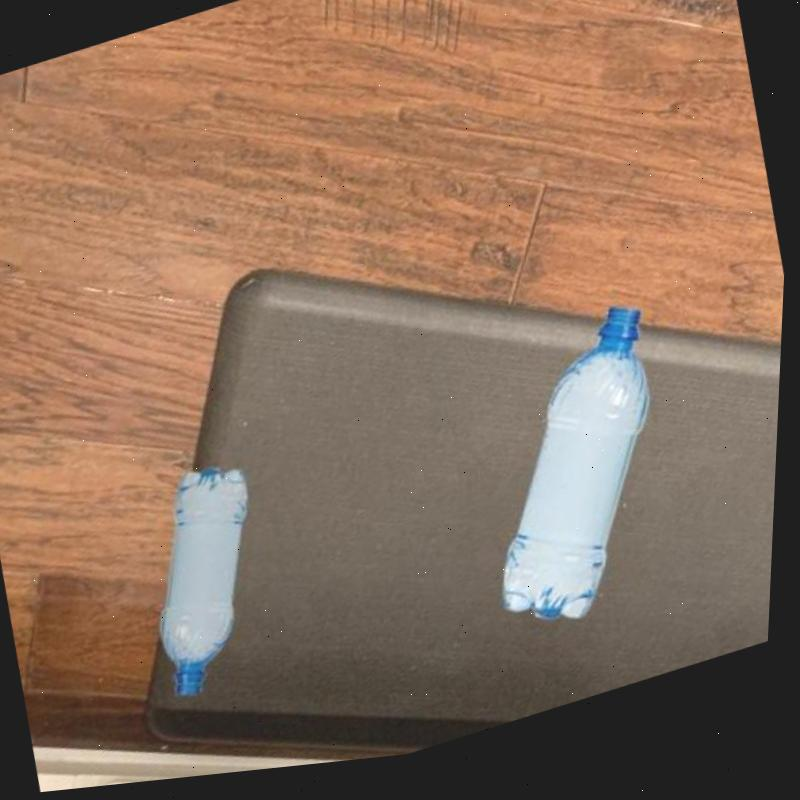botella: (453, 307, 703, 656), (126, 450, 298, 714)
